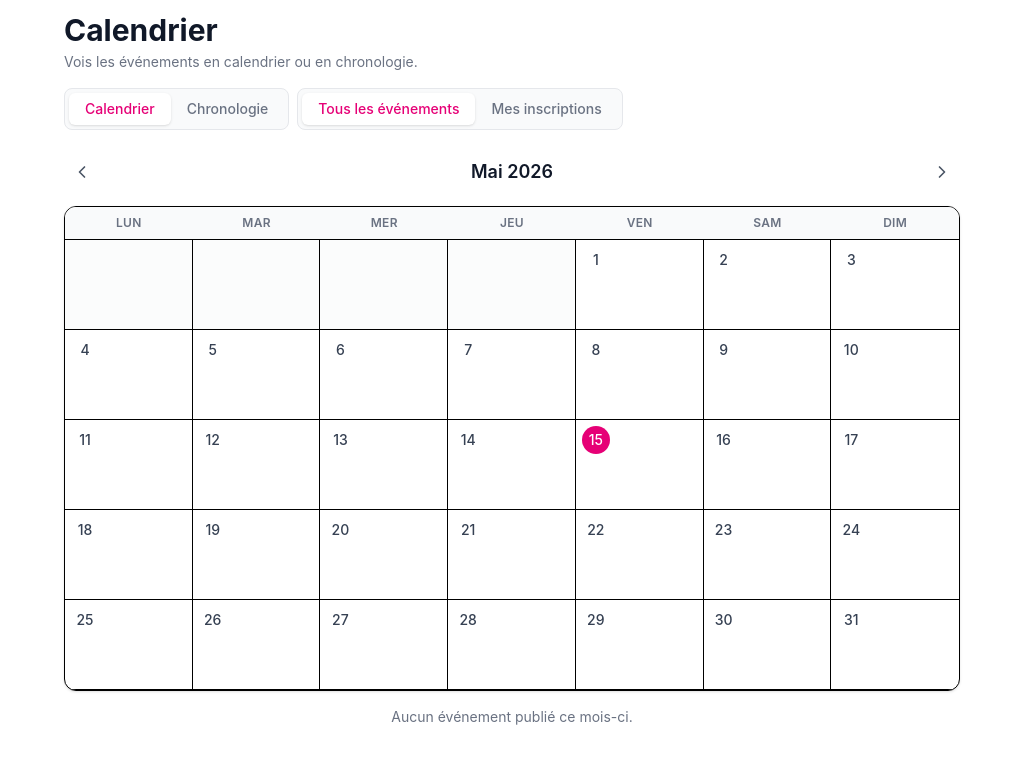
Test: CalendarPage › clicking the same day again closes the detail panel
expect the text "Aucun événement publié ce mois-ci." is shown: met, box [391, 708, 633, 725]
What coordinates should you click on to do the following:
click the button "3"
I would click on:
 (895, 285)
Its box is [831, 240, 959, 330].
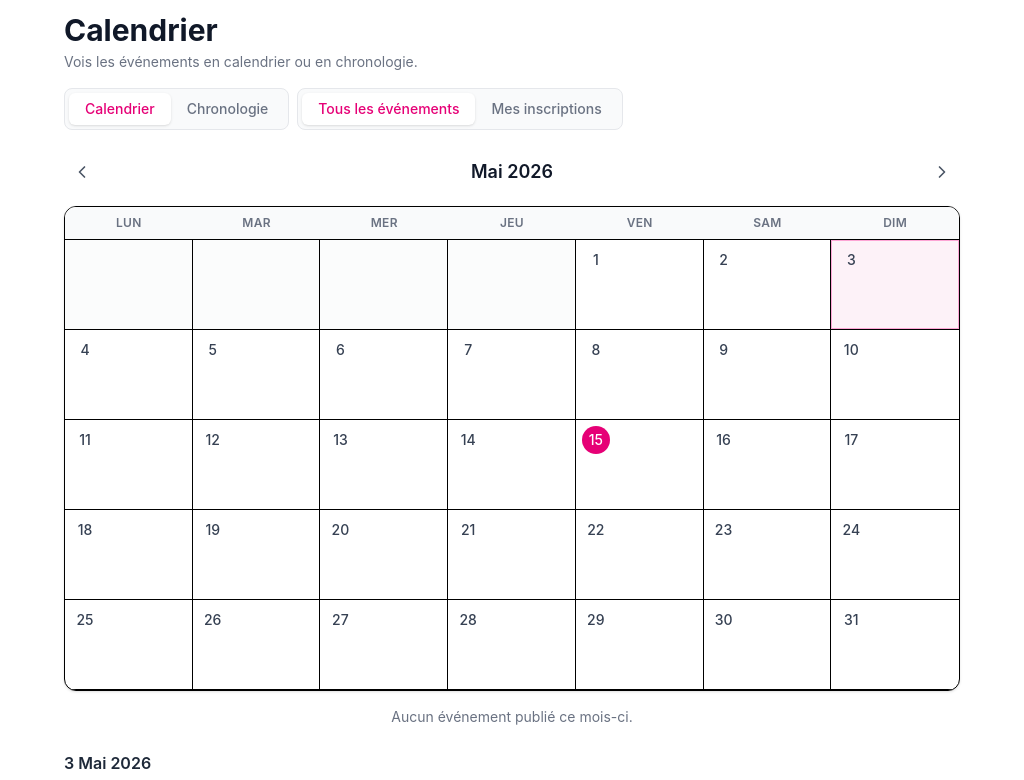
expect the heading "3 Mai 2026" is shown: met, box [64, 753, 151, 773]
What coordinates should you click on to do the following:
click the button "3"
I would click on:
 (895, 285)
Its box is [831, 240, 959, 330].
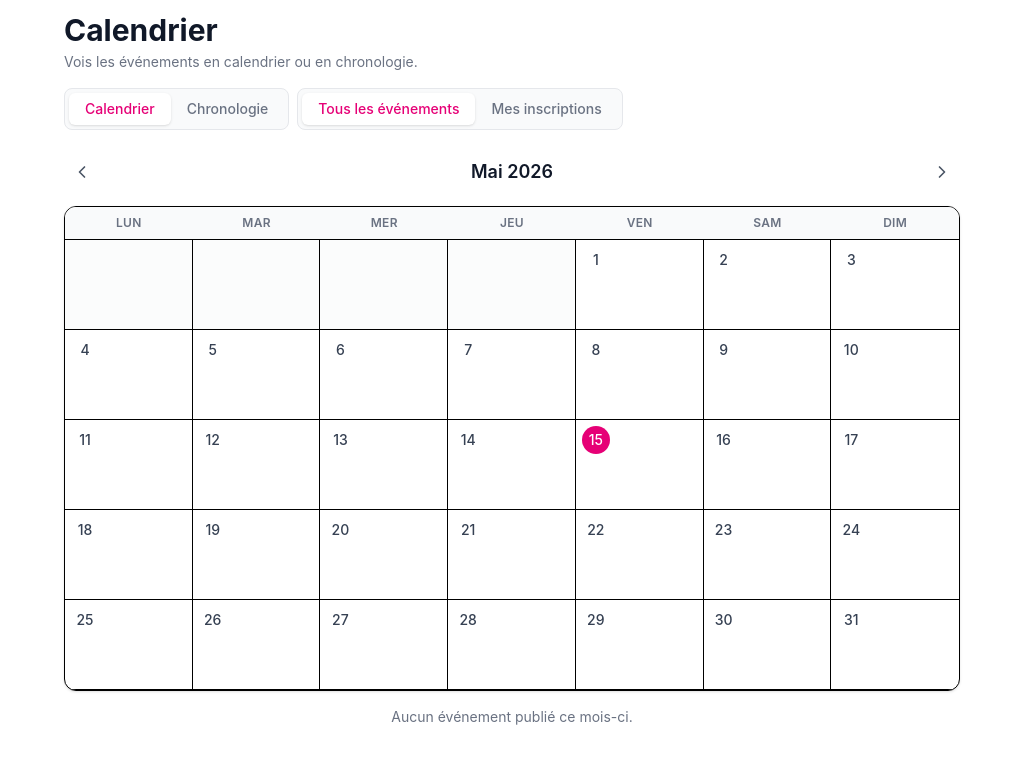
expect the heading "3 Mai 2026" is gone: met
